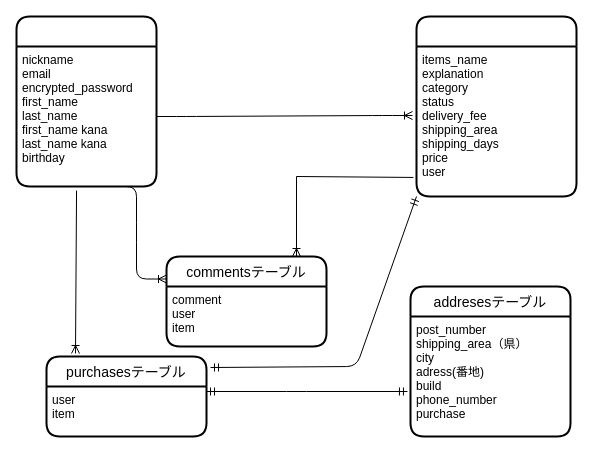
Image size: 593x453. Some labels were removed from this diagram. Each missing label, with the box of its shape:
itemsテーブル: (415, 15, 577, 197)
usersテーブル: (15, 15, 157, 187)
